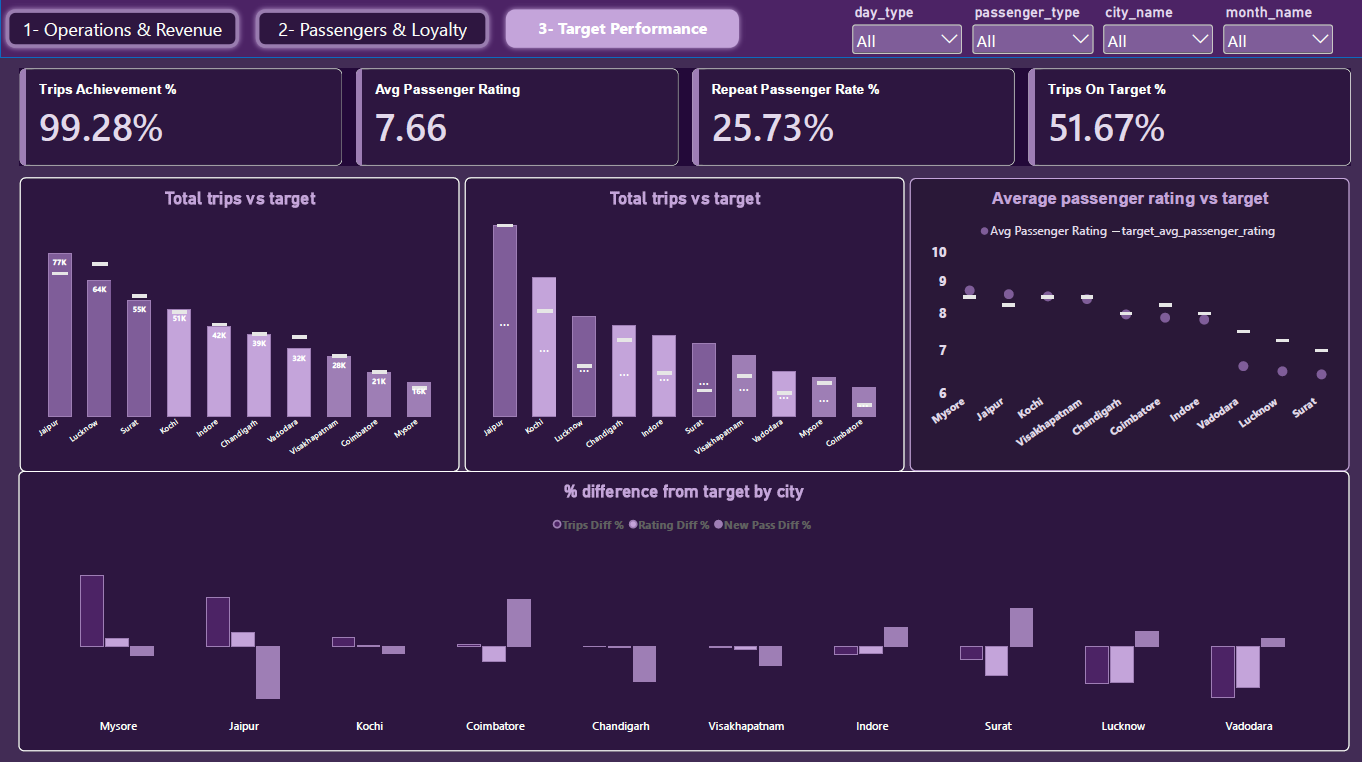

Layout of this report page (visuals, bound fields, positions):
{"tool":"powerbi","page":{"name":"3- Target Performance","canvas":[1920,1080],"ordinal":2},"visuals":[{"type":"shape","box":[0,0,1920,82],"z":0},{"type":"pageNavigator","box":[0,6,1048,70],"z":1000},{"type":"slicer","fields":{"Values":["dim_date.month_name"]},"box":[1716,6,164,74],"z":2000},{"type":"slicer","fields":{"Values":["dim_city.city_name"]},"box":[1547.3,6,164,74],"z":3000},{"type":"slicer","fields":{"Values":["fact_trips.passenger_type"]},"box":[1362.7,6,180,74],"z":4000},{"type":"slicer","fields":{"Values":["dim_date.day_type"]},"box":[1194,6,164,74],"z":5000},{"type":"cardVisual","fields":{"Data":["DAX.Trips Achievement %","DAX.Avg Passenger Rating","DAX.Repeat Passenger Rate %","DAX.Trips On Target %"]},"box":[28,98,1872,136],"z":6000},{"type":"lineClusteredColumnComboChart","title":"Total trips vs target","fields":{"Category":["dim_city.city_name"],"Y":["DAX.Total Trips"],"Y2":["DAX.Target Trips"]},"box":[28,250.8,618,414],"z":7000},{"type":"clusteredColumnChart","title":" % difference from target by city","fields":{"Category":["dim_city.city_name"],"Y":["DAX.Trips Diff %","DAX.Rating Diff %","DAX.New Pass Diff %"]},"box":[26,664,1872,394],"z":8000},{"type":"lineClusteredColumnComboChart","title":"Total trips vs target","fields":{"Category":["dim_city.city_name"],"Y":["DAX.Total Passengers"],"Y2":["Sum(monthly_target_new_passengers.target_new_passengers)"]},"box":[654,250.8,618,414],"z":9000},{"type":"lineChart","title":"Average passenger rating vs target","fields":{"Category":["dim_city.city_name"],"Y":["DAX.Avg Passenger Rating","Sum(city_target_passenger_rating.target_avg_passenger_rating)"]},"box":[1280,251.8,618,412],"z":10000}]}

Visuals, with their boxes in screenshot pixels (x1, y1, x2, y2), scaled from the page's 1920x1080 canvas onto the 1362x762 screenshot:
shape: 0, 0, 1361, 58
pageNavigator: 0, 4, 743, 54
slicer - dim_date.month_name: 1217, 4, 1334, 56
slicer - dim_city.city_name: 1098, 4, 1214, 56
slicer - fact_trips.passenger_type: 967, 4, 1094, 56
slicer - dim_date.day_type: 847, 4, 963, 56
cardVisual - DAX.Trips Achievement % x DAX.Avg Passenger Rating: 20, 69, 1348, 165
"Total trips vs target" lineClusteredColumnComboChart: 20, 177, 458, 469
" % difference from target by city" clusteredColumnChart: 18, 468, 1346, 746
"Total trips vs target" lineClusteredColumnComboChart: 464, 177, 902, 469
"Average passenger rating vs target" lineChart: 908, 178, 1346, 468
